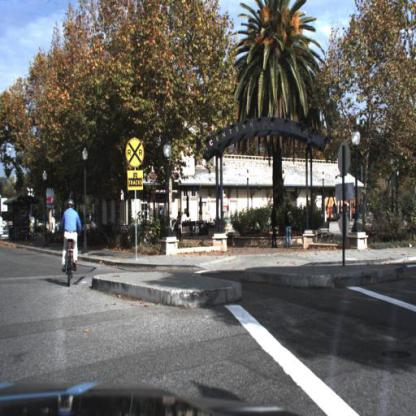biker: (62, 198, 83, 288)
pedestrian: (269, 205, 281, 250), (284, 205, 294, 248), (270, 204, 279, 249), (175, 209, 185, 248), (285, 204, 291, 247), (176, 211, 183, 237)
